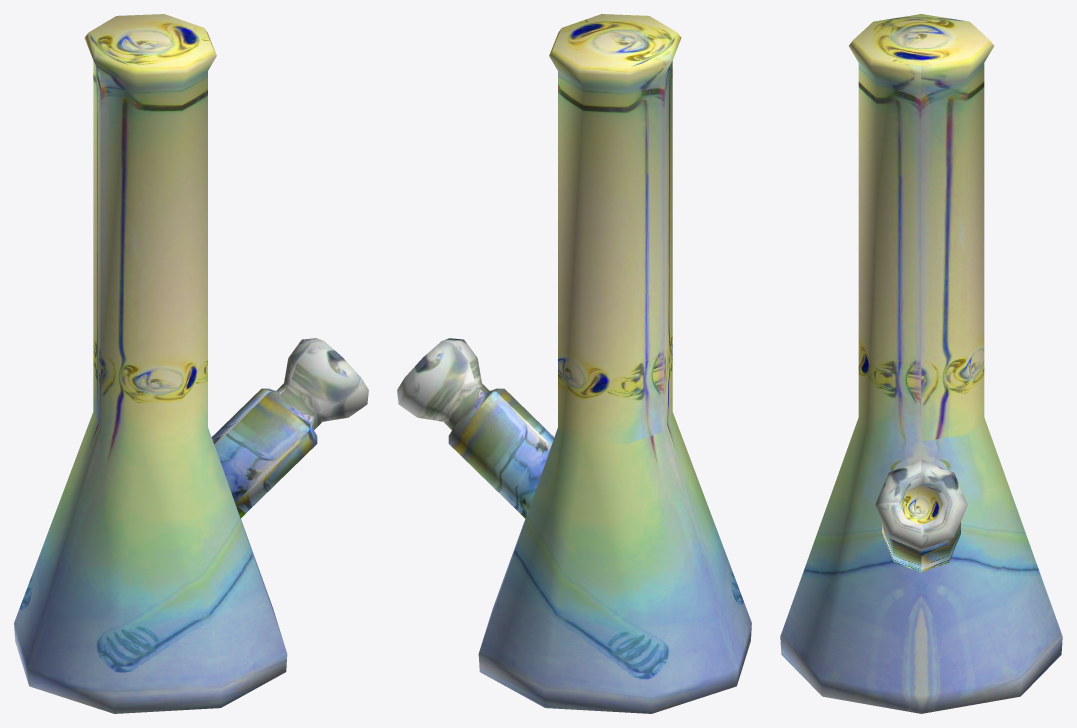
File: bong.FBX
3 renders of one model, left to right at view 1: azimuth 30°, elevation 25°; view 2: azimuth 150°, elevation 25°; view 3: azimuth 270°, elevation 25°, orthographic.
Visible parts, largest first — view 1: bong; view 2: bong; view 3: bong.
Boxes of the visible parts, bbox=[...] form: bong: bbox=[14, 14, 368, 713]; bong: bbox=[397, 14, 751, 713]; bong: bbox=[780, 14, 1062, 713].
Bounding box in the file's own units: 67.47 × 120 × 49.64.
